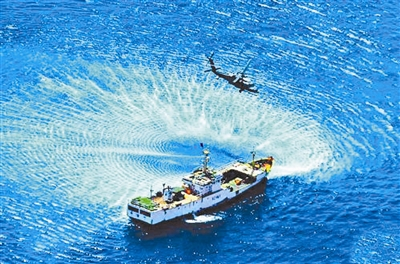airplane: (203, 46, 263, 95)
otherboat: (122, 150, 276, 223)
